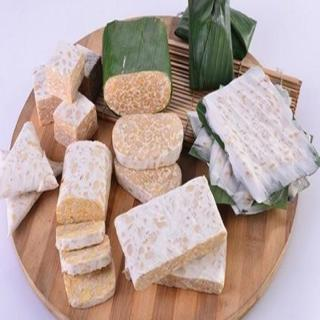Tempe: (1, 14, 320, 311), (189, 65, 320, 216), (114, 175, 229, 296), (175, 1, 258, 92), (33, 41, 100, 150), (102, 16, 174, 117), (1, 121, 60, 237), (113, 112, 185, 171), (209, 141, 255, 214), (104, 70, 172, 117), (114, 158, 183, 204), (63, 257, 117, 310), (53, 91, 99, 148), (46, 41, 86, 105)
